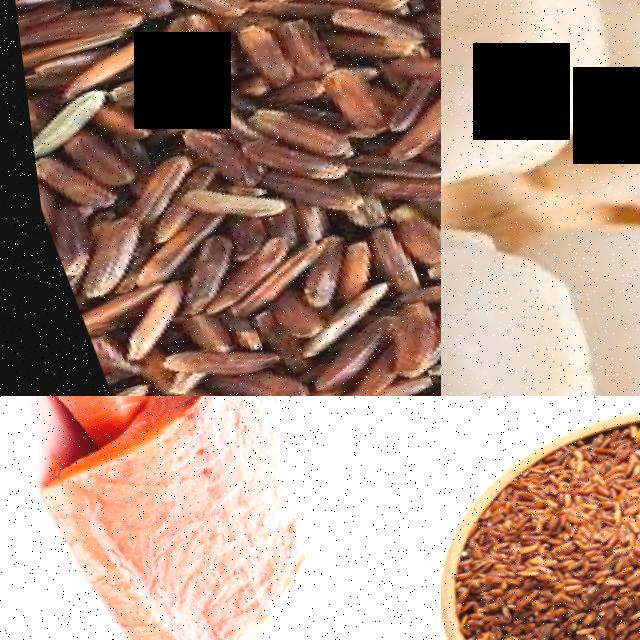red rice: (0, 0, 441, 396), (441, 396, 640, 640)
sea scallops: (441, 0, 640, 218), (441, 185, 626, 396), (538, 209, 640, 396), (574, 44, 640, 250)
